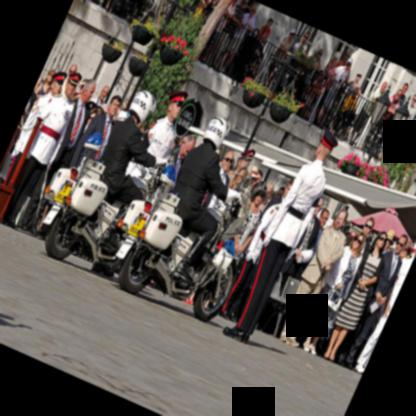handbag: (327, 288, 342, 311)
